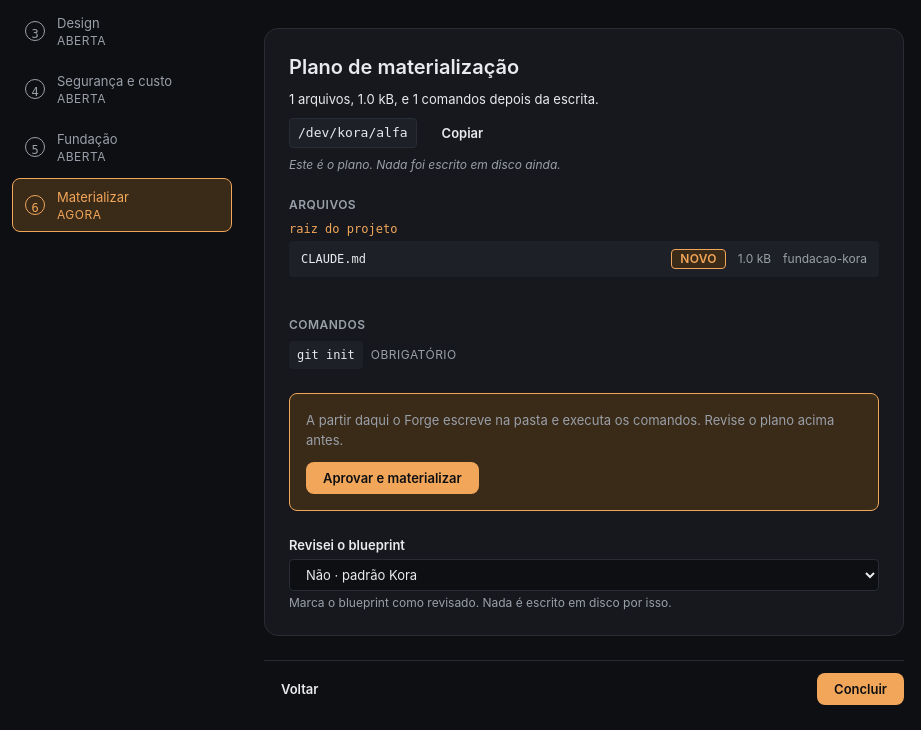
Test: aprovar e materializar › o botão de aprovar é separado da navegação e manda o hash do plano
(page scrolled)
Expected: the text "A partir daqui o Forge escreve na pasta e executa os comandos. Revise o plano acima antes." is shown, 306,412 -> 834,448
Click the button "Aprovar e materializar". click: x=392, y=478
box: 306,462 -> 479,494
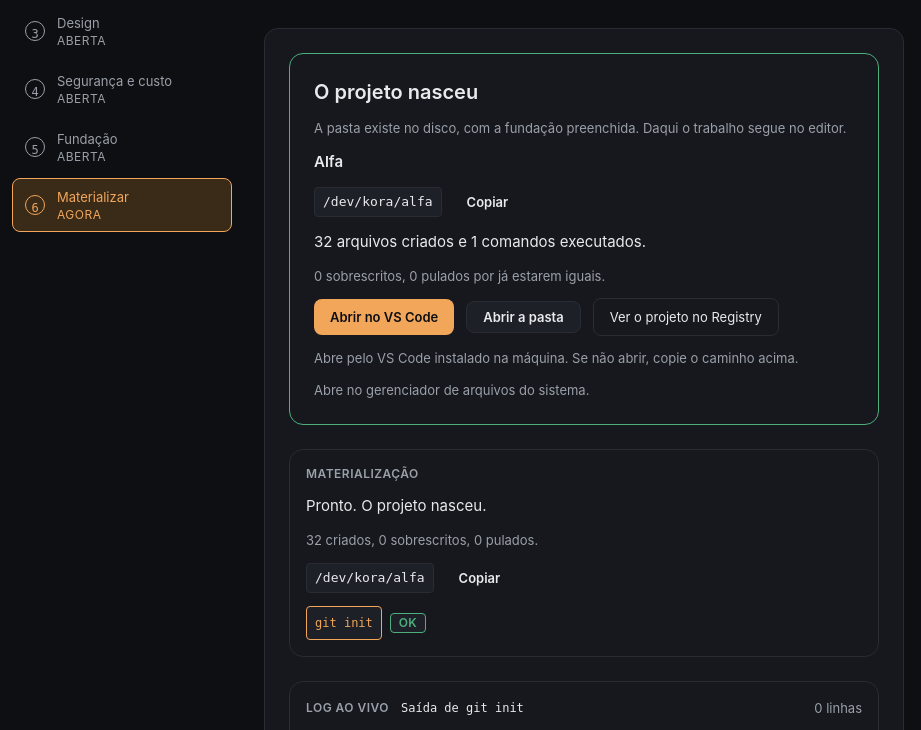
Expected: the text "Pronto. O projeto nasceu." is shown, 306,494 -> 486,518
Expected: the number of buttons "git init" is 1, 306,606 -> 382,640
Expected: the heading "O projeto nasceu" is shown, 314,78 -> 478,106
